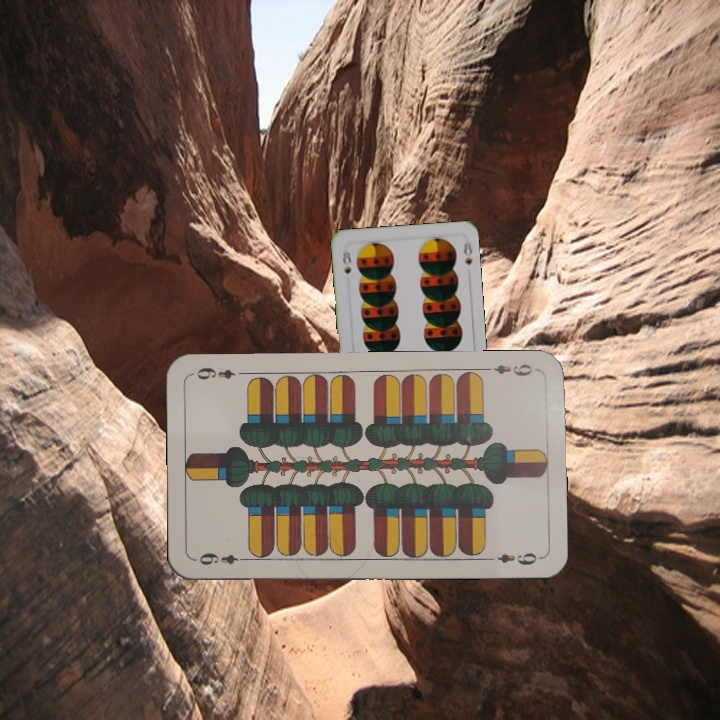E9: (481, 360, 540, 379), (195, 549, 251, 568)
S8: (339, 246, 354, 277)
